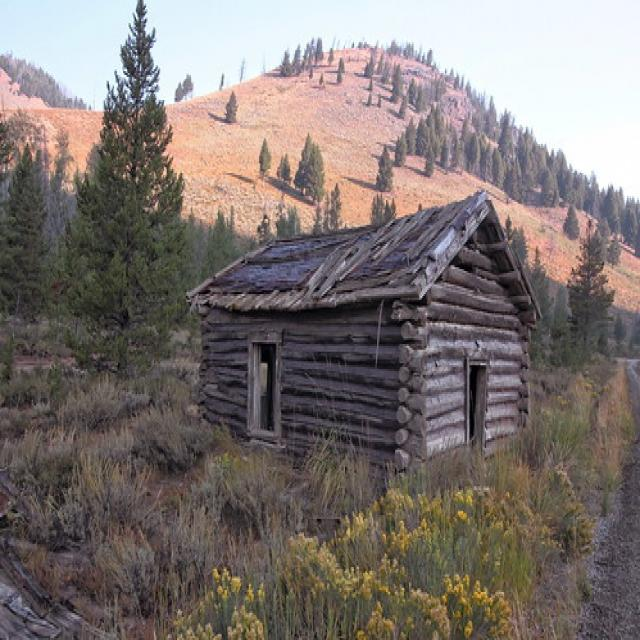Normal_building: (190, 186, 541, 473)
